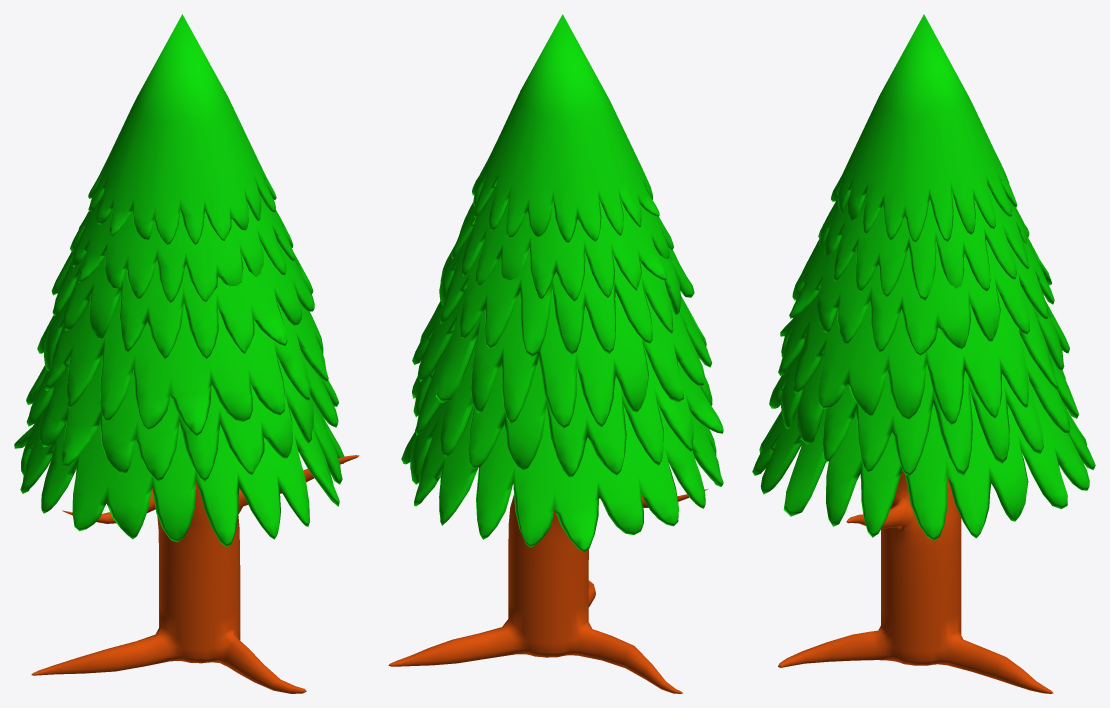
Rendered from SM_Pine_01.fbx.
3 views of the same model, side by side, from view 1: azimuth 30°, elevation 25°; view 2: azimuth 150°, elevation 25°; view 3: azimuth 270°, elevation 25° (orthographic).
Visible parts, largest first — view 1: pCylinder1; view 2: pCylinder1; view 3: pCylinder1.
Part boxes in pixels (x1,y1,x2,y2): pCylinder1: [14, 14, 359, 693]; pCylinder1: [388, 14, 723, 693]; pCylinder1: [752, 14, 1095, 693].
Size of the model in its own units: 1908 by 4098 by 2015.
